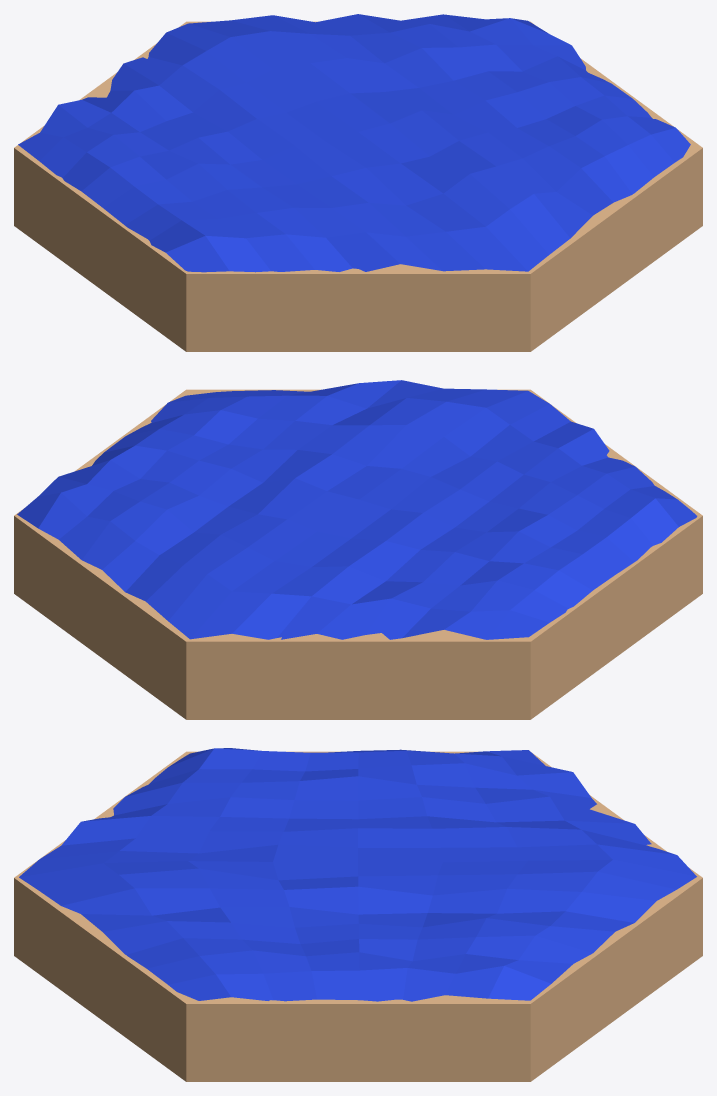
The model's file is HexaSea.fbx.
The picture shows the model from 3 angles, top to bottom: view 1: azimuth 30°, elevation 25°; view 2: azimuth 150°, elevation 25°; view 3: azimuth 270°, elevation 25°; orthographic projection.
Visible parts, largest first — view 1: Plane, Hexagon; view 2: Plane, Hexagon; view 3: Plane, Hexagon.
Boxes of the visible parts, box(x1,y1,x2,y2) form: Plane: box(18, 14, 690, 272); Hexagon: box(14, 21, 702, 351); Plane: box(17, 380, 697, 639); Hexagon: box(14, 389, 702, 719); Plane: box(19, 748, 696, 1001); Hexagon: box(14, 751, 702, 1081).
Size of the model in its own units: 346 by 65.83 by 400.
